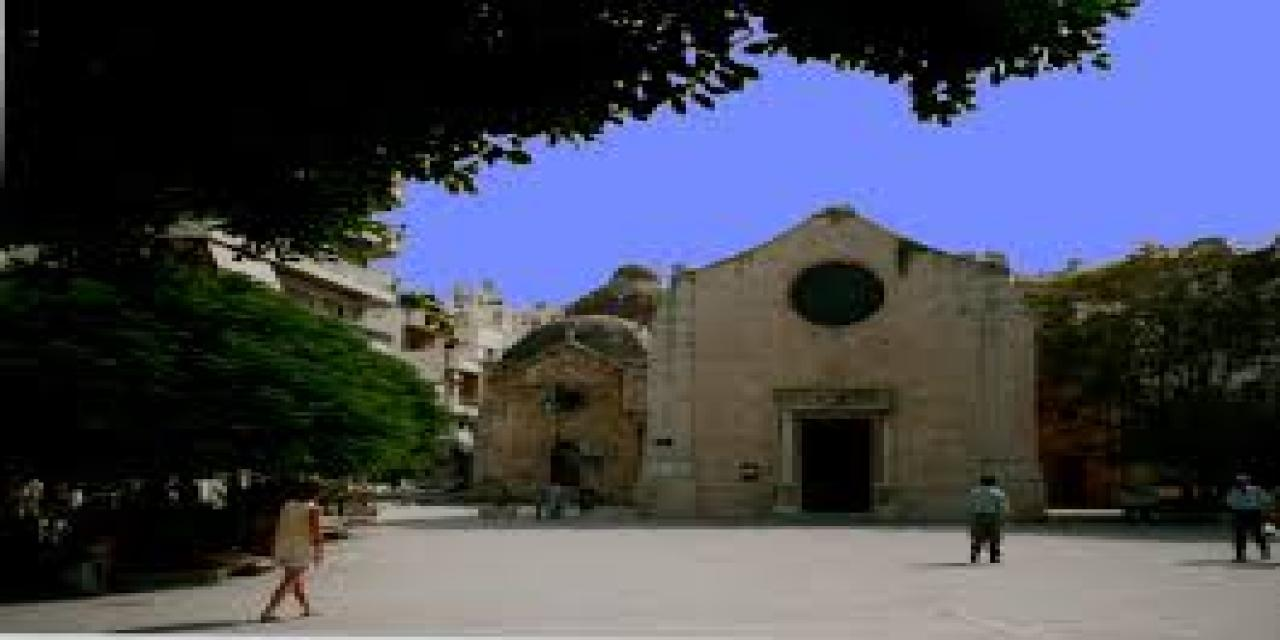Agia Aikaterini: (482, 208, 1052, 521)
